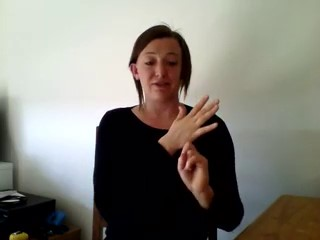L: (163, 92, 223, 190)
